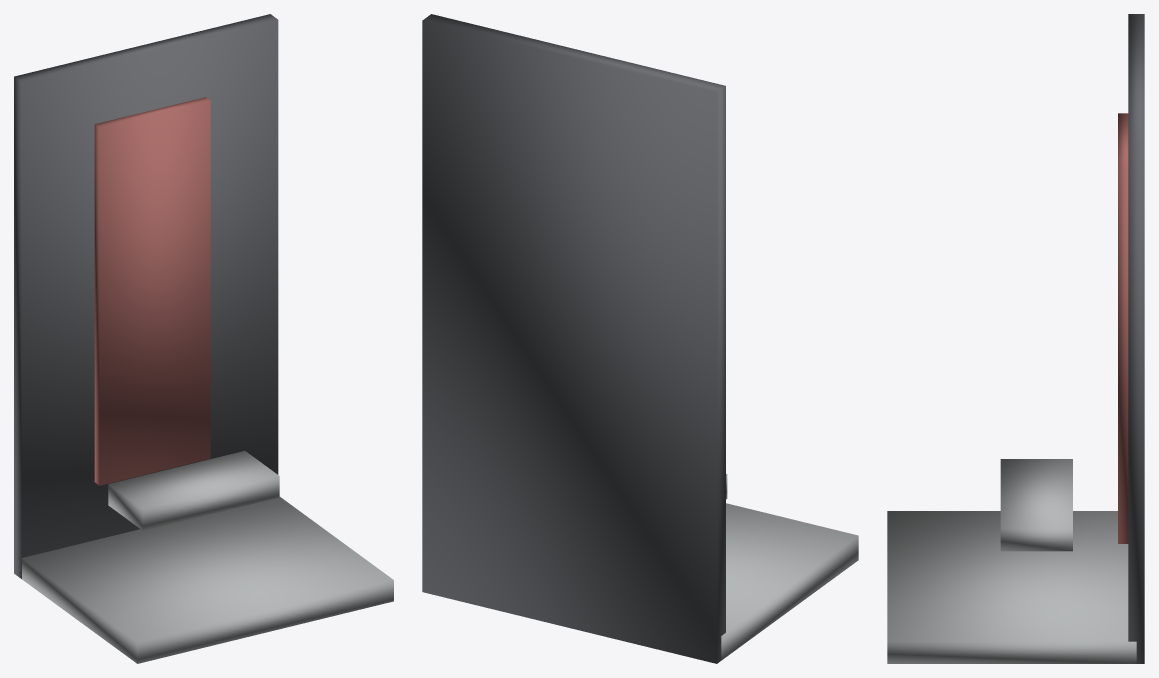
Rendered from roof_access_hatch_stair_15.glb.
3 views of the same model, side by side, from view 1: azimuth 30°, elevation 25°; view 2: azimuth 150°, elevation 25°; view 3: azimuth 270°, elevation 25° (orthographic). The views are drawn at different scales.
Visible parts, largest first — view 1: world; view 2: world; view 3: world.
Part boxes in pixels (x1,y1,x2,y2): world: (14,14,393,663); world: (422,14,858,663); world: (887,14,1144,663).
Bounding box in the file's own units: 1.5 × 2.78 × 1.25.
